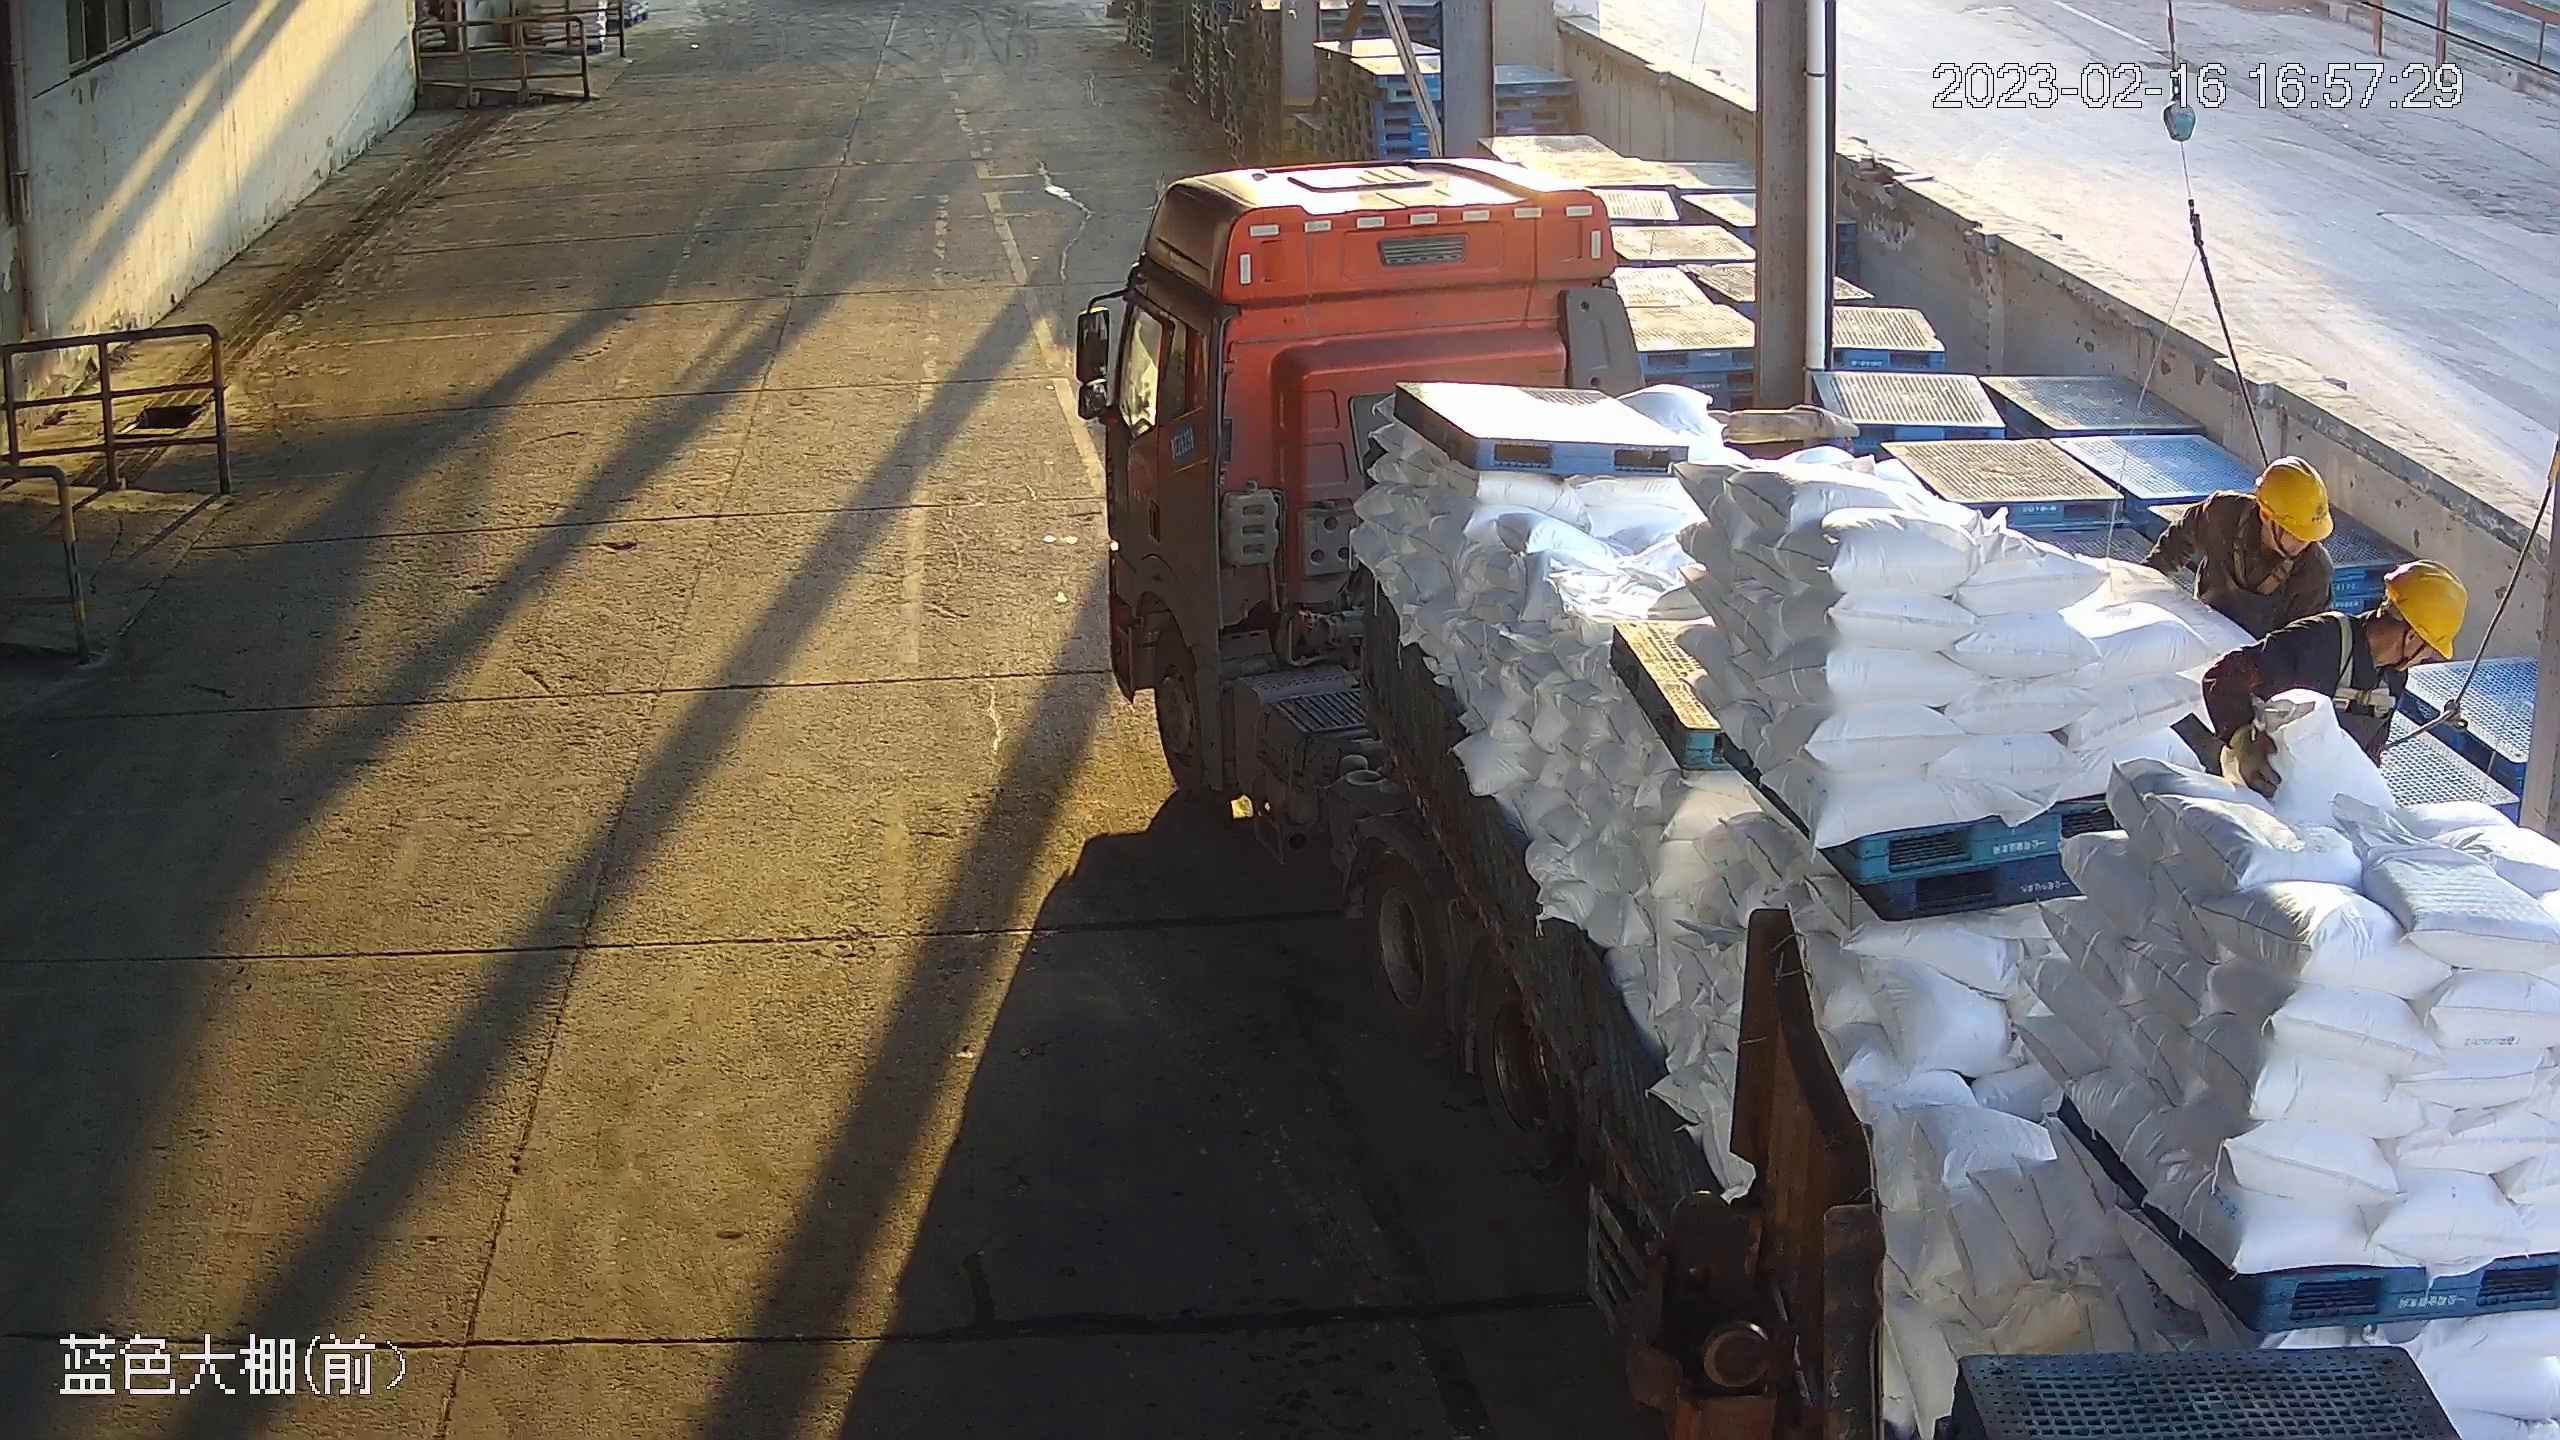belt: (2320, 606, 2407, 719), (2229, 516, 2307, 595)
head: (2172, 453, 2336, 617), (2285, 551, 2471, 691)
helmet: (2373, 551, 2479, 662), (2259, 460, 2344, 549)
truck: (1064, 149, 2560, 1440)
